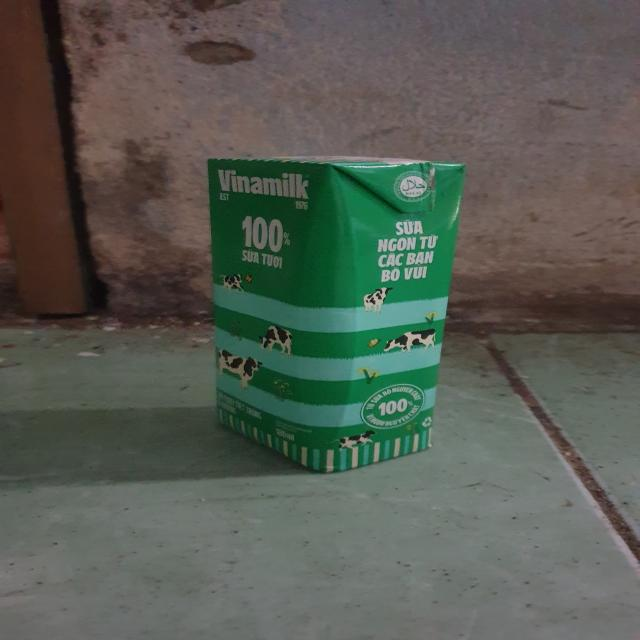Vina: (210, 146, 461, 477)
